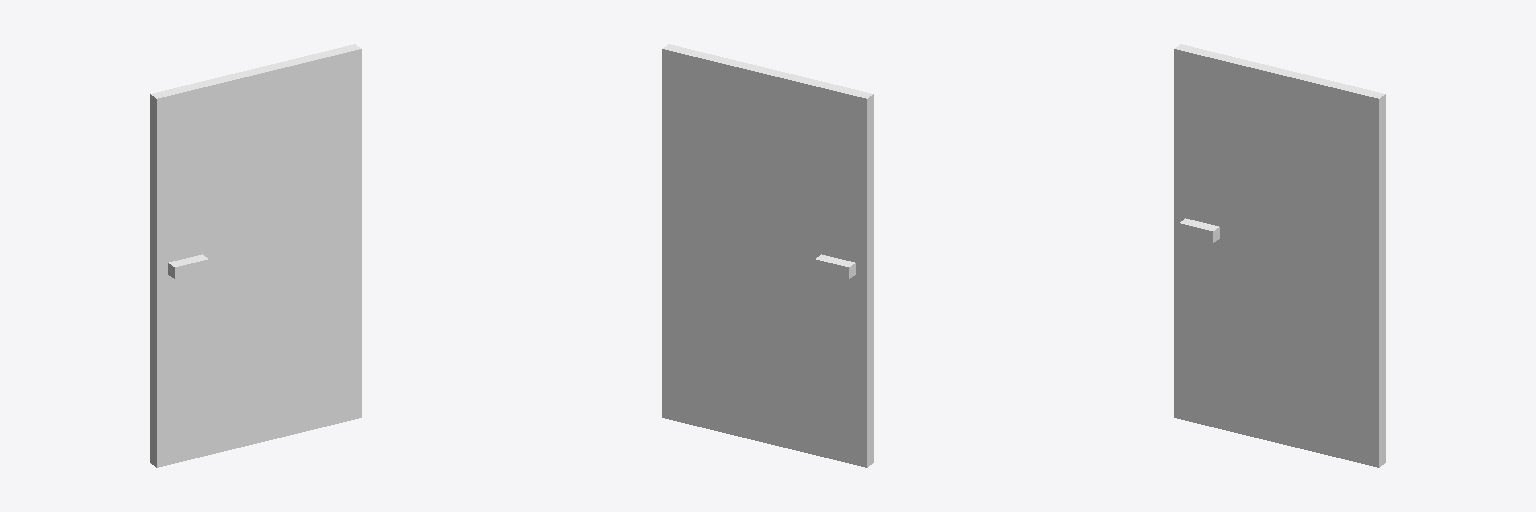
The model's file is Door02b.obj.
3 views of the same model, side by side, from view 1: azimuth 30°, elevation 25°; view 2: azimuth 150°, elevation 25°; view 3: azimuth 330°, elevation 25° (orthographic).
Parts seen in each view (by area): view 1: object 1; view 2: object 1; view 3: object 1.
Boxes of the visible parts, box(x1,y1,x2,y2) form: object 1: box(150, 44, 361, 467); object 1: box(662, 44, 873, 467); object 1: box(1174, 44, 1385, 467).
Size of the model in its own units: 1.8 by 3.1 by 0.3.